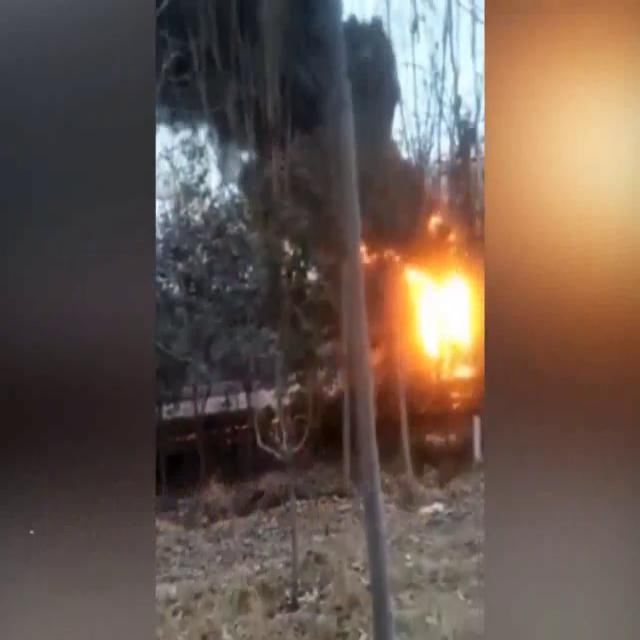Fire: (399, 250, 483, 380)
Smoke: (156, 0, 426, 231)
